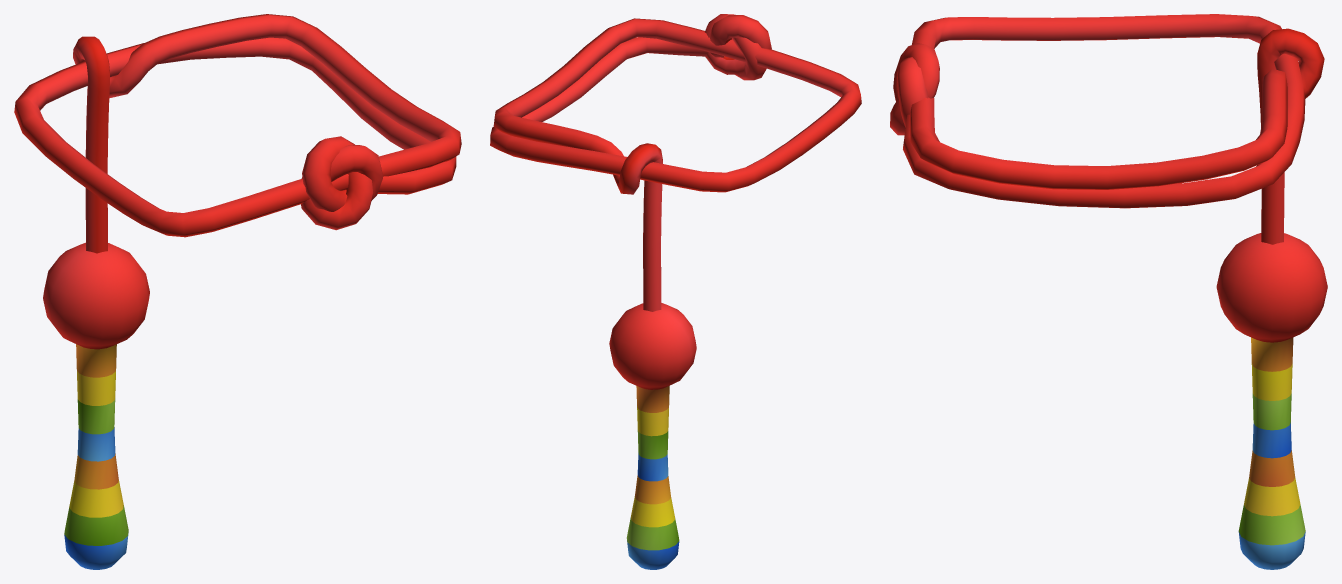
File: JumpingRope_1.fbx
3 renders of one model, left to right at view 1: azimuth 30°, elevation 25°; view 2: azimuth 150°, elevation 25°; view 3: azimuth 270°, elevation 25°, orthographic. The views are drawn at different scales.
Parts seen in each view (by area): view 1: JumpingRope_1; view 2: JumpingRope_1; view 3: JumpingRope_1.
Part boxes in pixels (box(x1,y1,x2,y2)): JumpingRope_1: box(14, 14, 461, 569); JumpingRope_1: box(490, 14, 861, 569); JumpingRope_1: box(890, 14, 1327, 569).
Size of the model in its own units: 232 by 372 by 267.
